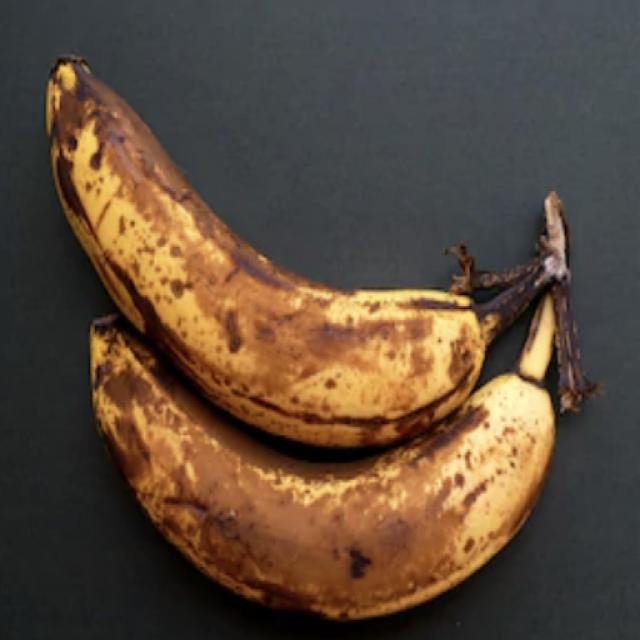rotten-banana: (42, 63, 602, 440), (87, 321, 621, 640)
